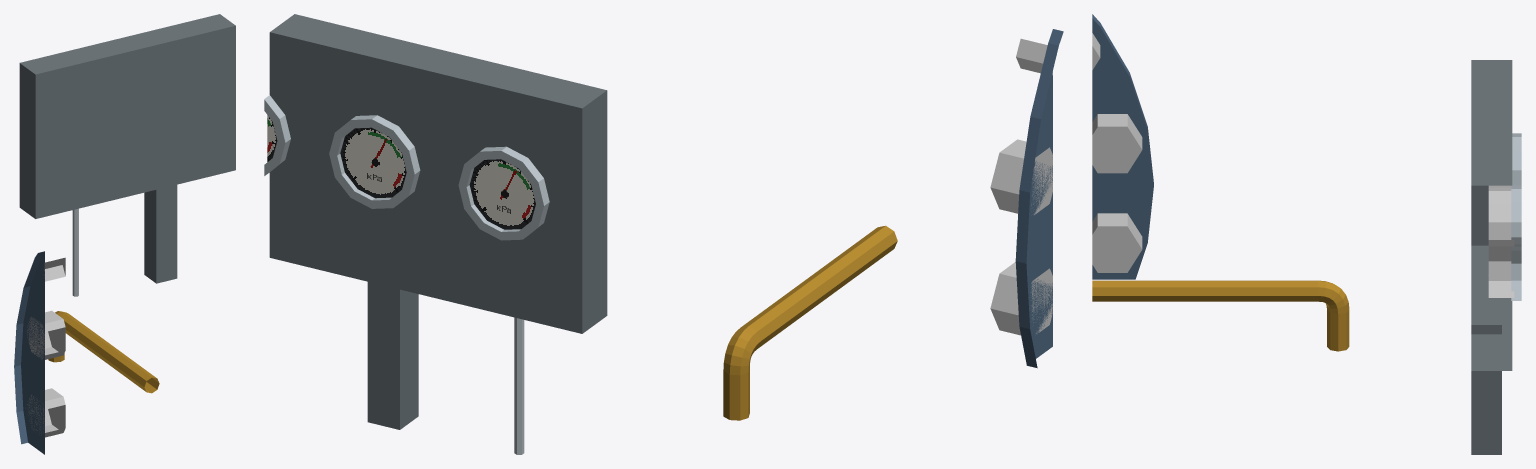
The model's file is cell_31.obj.
The picture shows the model from 3 angles, left to right: view 1: azimuth 30°, elevation 25°; view 2: azimuth 150°, elevation 25°; view 3: azimuth 270°, elevation 25°; orthographic projection. The views are drawn at different scales.
Bounding box in the file's own units: 1 × 0.66 × 0.838.
